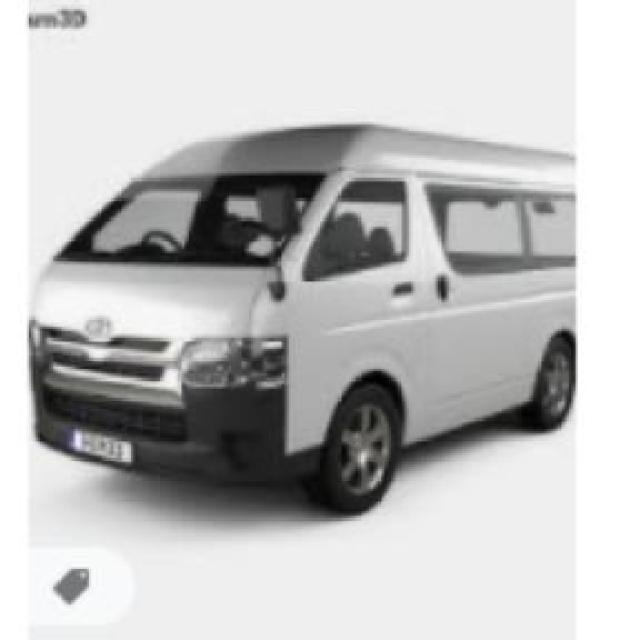Van: (16, 131, 574, 514)
